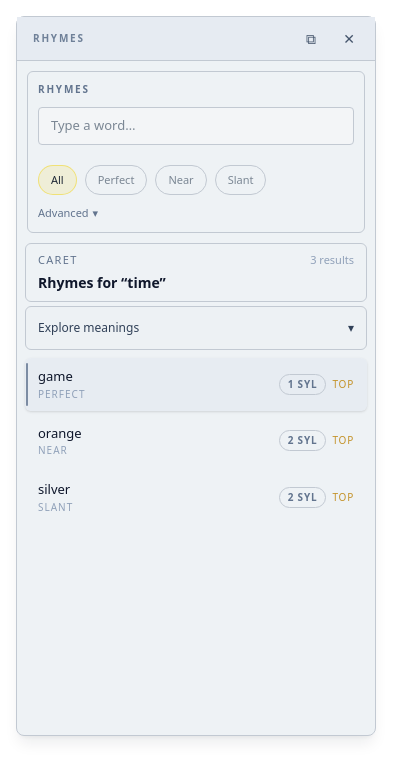
RhymeSuggestionsPanel › filters and labels candidates by intrinsic category without relabeling
What coordinates should you click on to do the following:
click the button "Near"
I would click on:
 (181, 180)
Its box is [155,164,207,195].
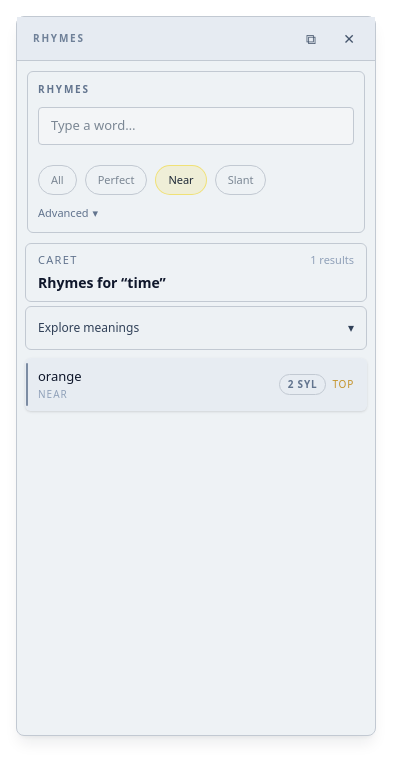
Expected: the option "orange near 2 syl Top" is shown, [25,358,367,410]
Now the option "game" is gone
What coordinates should you click on to do the following:
click the button "Slant"
I would click on:
 (241, 180)
Its box is [215,164,266,195].
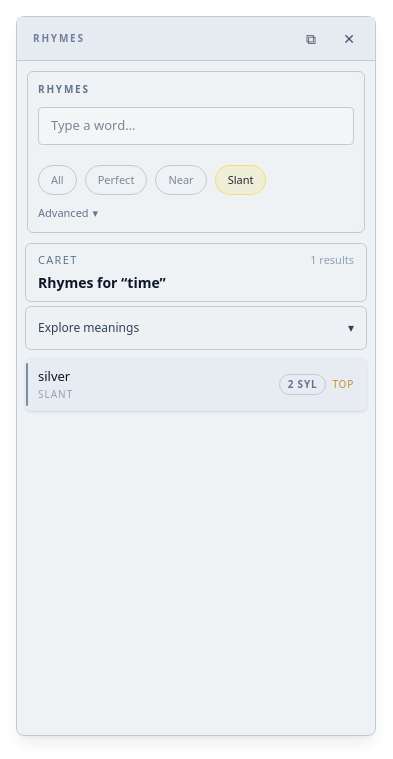
Now the option "orange" is gone
Now the option "silver slant 2 syl Top" is shown, box [25,358,367,410]
